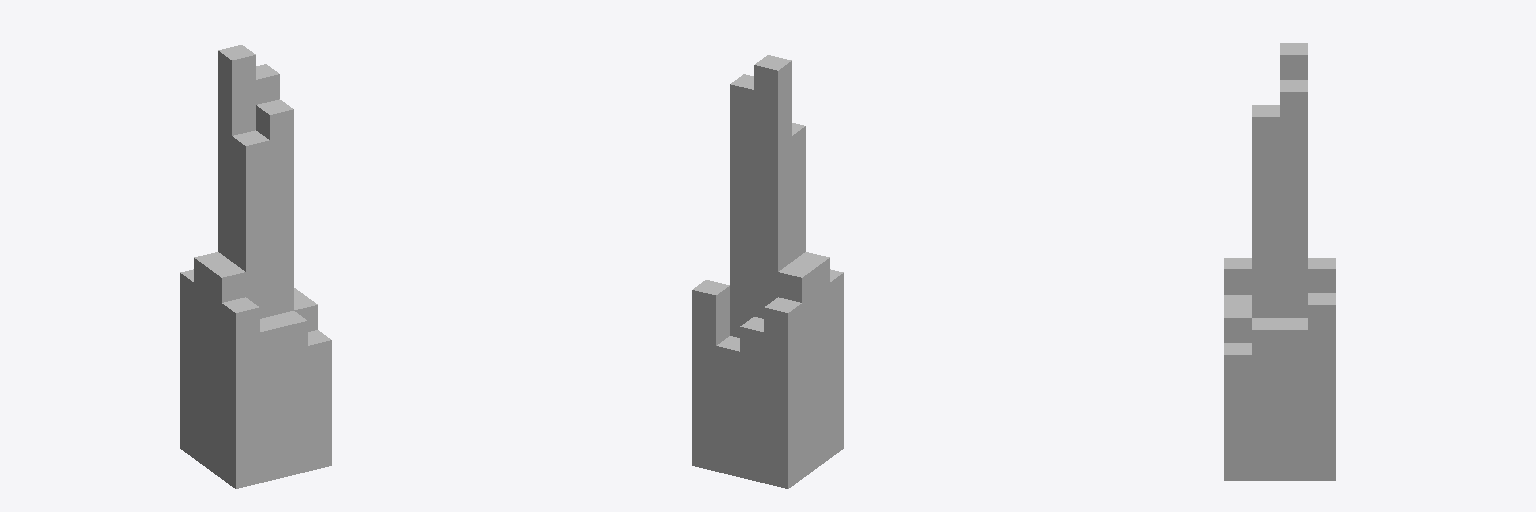
Rendered from stellar collapser blue.obj.
3 renders of one model, left to right at view 1: azimuth 30°, elevation 25°; view 2: azimuth 150°, elevation 25°; view 3: azimuth 270°, elevation 25°, orthographic.
Visible parts, largest first — view 1: object 1; view 2: object 1; view 3: object 1.
Boxes of the visible parts, <box> form: object 1: <box>180,45,331,488</box>; object 1: <box>692,55,843,488</box>; object 1: <box>1224,43,1335,480</box>.
Size of the model in its own units: 0.4 by 1.6 by 0.4.